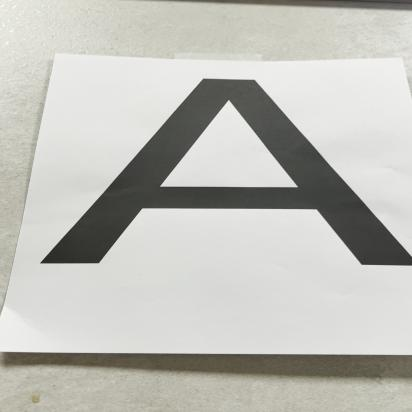seat: (54, 67, 412, 298)
